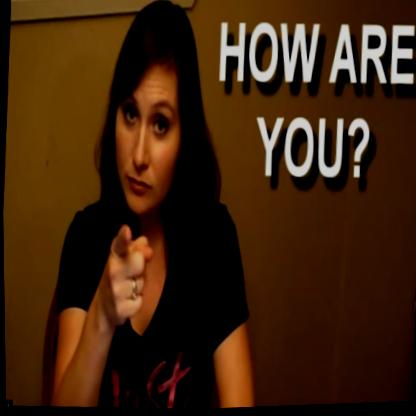HowAreYou: (87, 202, 195, 344)
